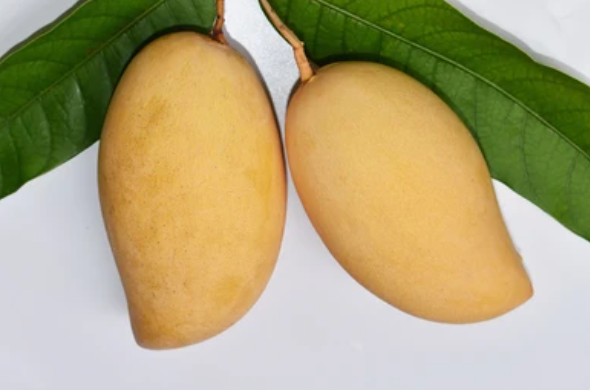mango: (287, 56, 535, 322), (100, 29, 289, 350)
